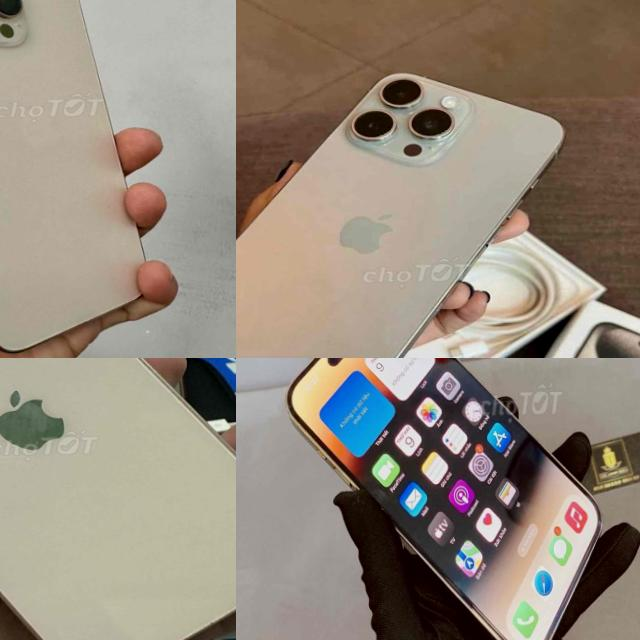gen_12_13: (0, 358, 236, 640)
gen_14: (287, 358, 600, 640), (0, 0, 156, 358)
gen_15: (236, 53, 580, 358)
